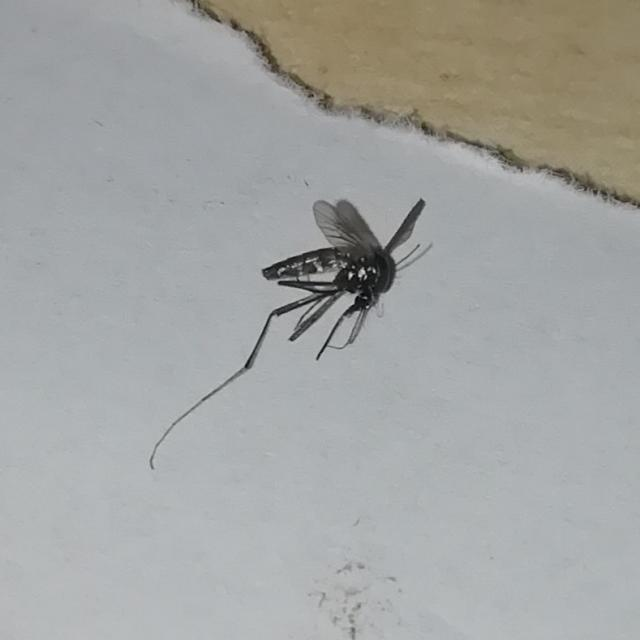albopictus: (148, 188, 454, 476)
